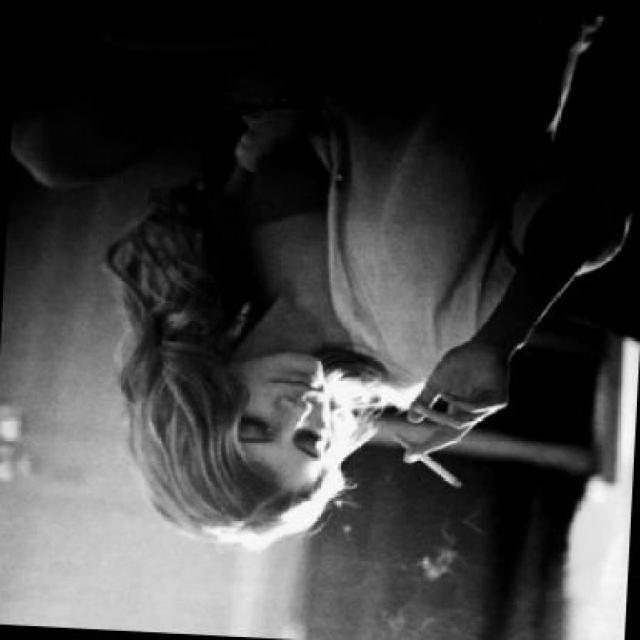smoke: (384, 428, 468, 488)
